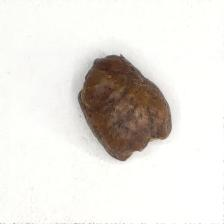NG: (117, 129, 170, 162)
